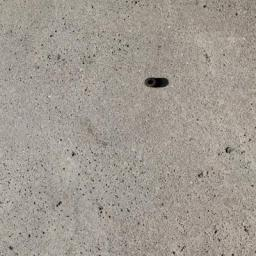FOD: (142, 75, 174, 93)
